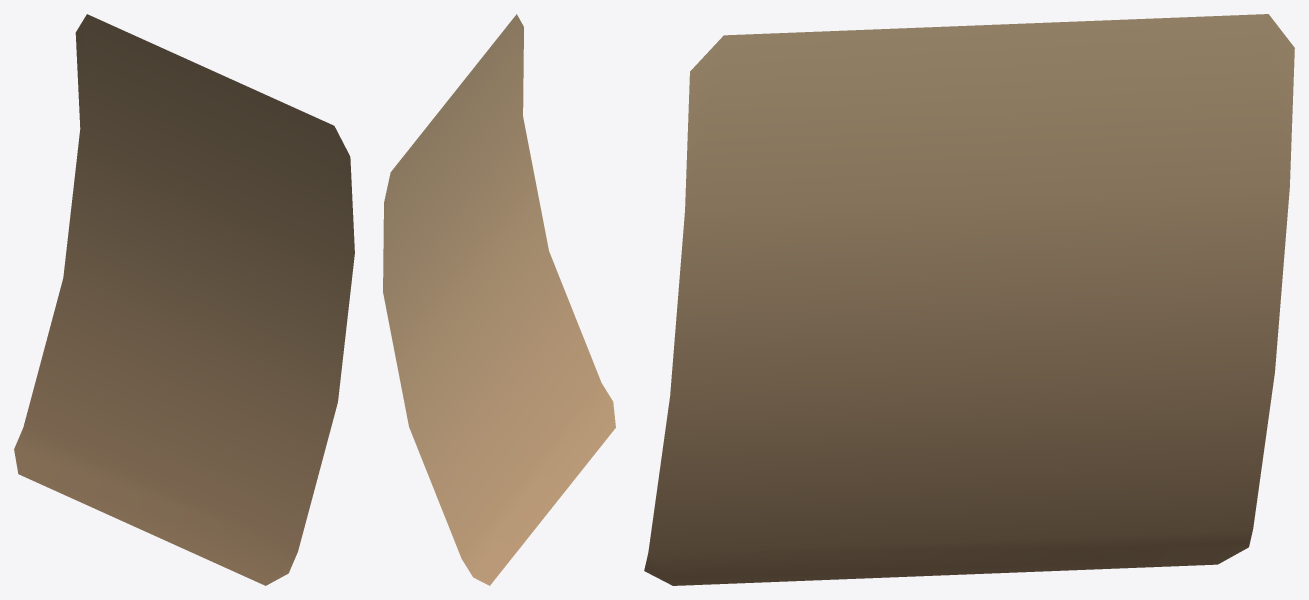
File: sticky-note (%wall).glb
3 renders of one model, left to right at view 1: azimuth 30°, elevation 25°; view 2: azimuth 150°, elevation 25°; view 3: azimuth 270°, elevation 25°, orthographic. The views are drawn at different scales.
Parts seen in each view (by area): view 1: sticky-note (%wall); view 2: sticky-note (%wall); view 3: sticky-note (%wall).
Part boxes in pixels (bbox=[...]): sticky-note (%wall): bbox=[14, 14, 354, 585]; sticky-note (%wall): bbox=[383, 14, 615, 585]; sticky-note (%wall): bbox=[644, 14, 1294, 585].
Bounding box in the file's own units: 0.0327 × 0.0909 × 0.0851.
